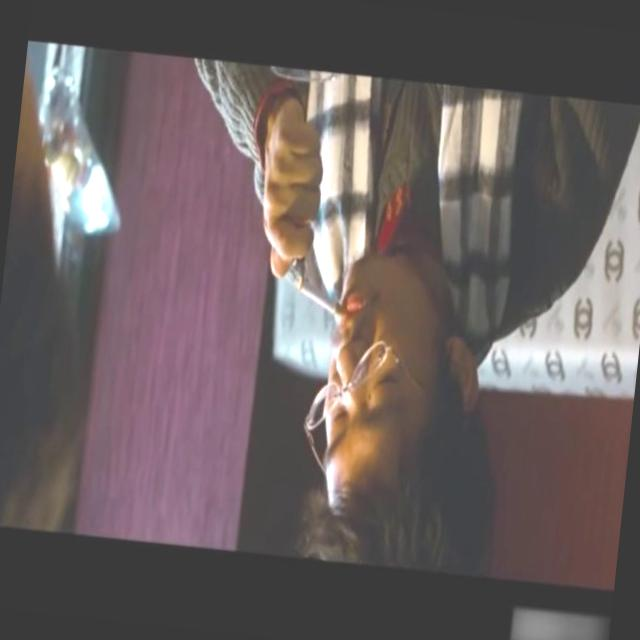smoke: (290, 270, 356, 331)
